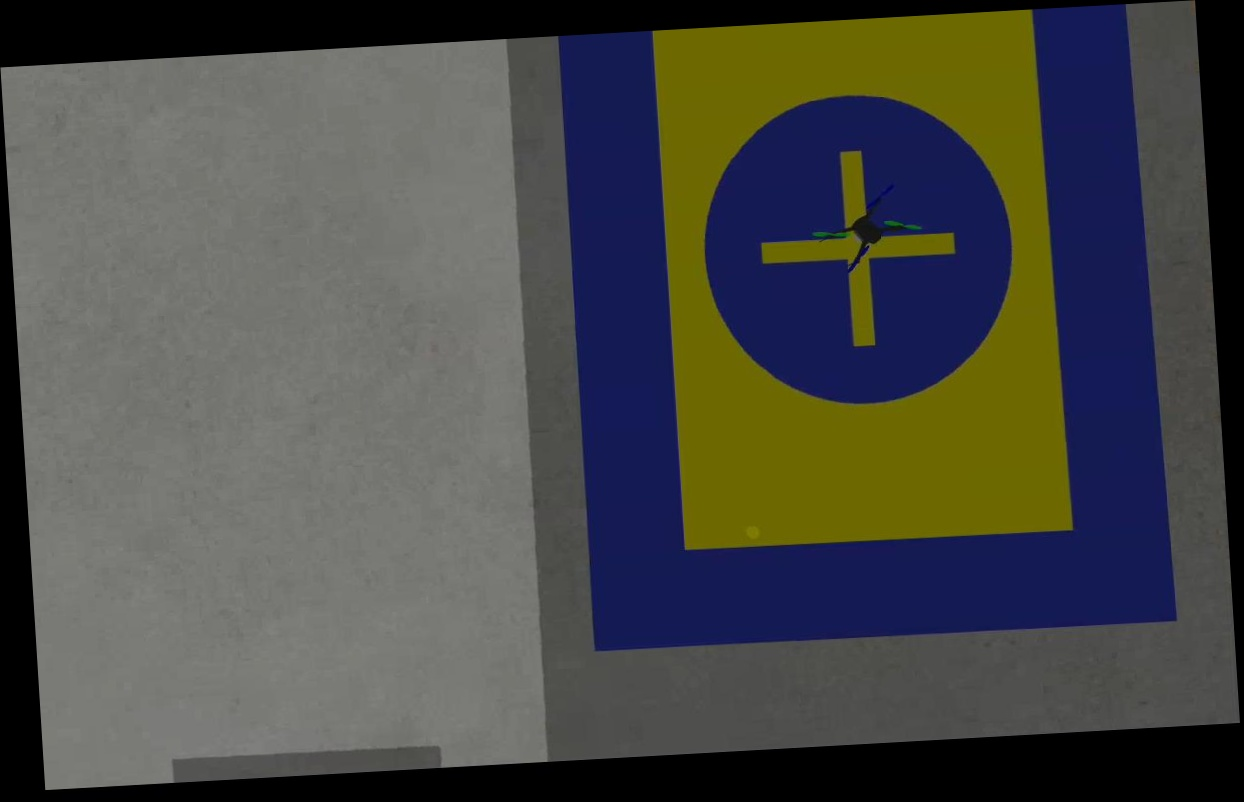large_base: (554, 3, 1180, 658)
